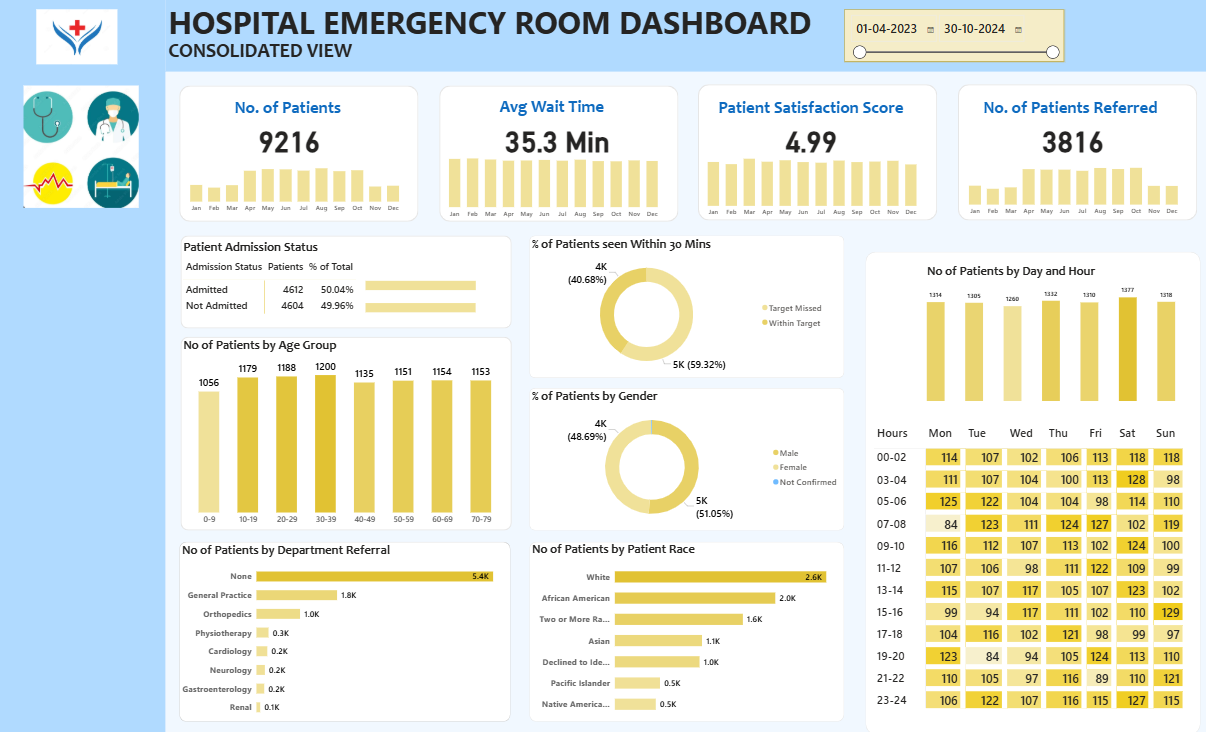

This screenshot's page, from the dashboard's own definition file:
{"tool":"powerbi","page":{"name":"Consolidated View","canvas":[2300,1400],"ordinal":1},"visuals":[{"type":"shape","box":[0,2.4,318.6,1398.1],"z":0},{"type":"shape","box":[318.6,0,1983,140.3],"z":1000},{"type":"textbox","box":[318.6,0,1343.4,99.9],"z":2000},{"type":"textbox","box":[318.6,71.3,375.7,69],"z":3000},{"type":"shape","box":[344.8,166.4,455,259.2],"z":4000},{"type":"card","title":"No. of Patients","fields":{"Values":["Hospital ER_Data.No of Patients"]},"box":[477.9,221.1,152.2,90.4],"z":5000},{"type":"slicer","fields":{"Values":["Date Table.Date"]},"box":[1609.7,21.4,418.5,99.9],"z":6000},{"type":"textbox","box":[444.6,183.1,275.8,76.1],"z":7000},{"type":"columnChart","fields":{"Category":["Date Table.Month Name"],"Y":["Hospital ER_Data.No of Patients"]},"box":[347.1,280.6,435.1,137],"z":8000},{"type":"shape","box":[838.2,166.9,455,259.2],"z":9000},{"type":"card","title":"No. of Patients","fields":{"Values":["Hospital ER_Data.Avg Wait Time"]},"box":[948.7,221.1,230.6,90.4],"z":10000},{"type":"textbox","box":[948.7,180.7,259.2,73.7],"z":11000},{"type":"columnChart","fields":{"Category":["Date Table.Month Name"],"Y":["Avg(Hospital ER_Data.Patient Waittime)"]},"box":[839.3,282.9,435.1,145],"z":12000},{"type":"shape","box":[1331.7,163.1,455,259.2],"z":13000},{"type":"card","title":"No. of Patients","fields":{"Values":["Hospital ER_Data.Satisfaction Score"]},"box":[1450.4,221.1,192.6,90.4],"z":14000},{"type":"textbox","box":[1364.8,183.1,366.2,76.1],"z":15000},{"type":"columnChart","fields":{"Y":["Hospital ER_Data.Satisfaction Score"],"Category":["Date Table.Month Name"]},"box":[1331.5,280.6,435.1,145],"z":16000},{"type":"shape","box":[1825.2,165,455,259.2],"z":17000},{"type":"card","title":"No. of Patients","fields":{"Values":["Hospital ER_Data.No of Patients Referred"]},"box":[1968.8,221.1,152.2,90.4],"z":18000},{"type":"textbox","box":[1868.9,183.1,378.1,76.1],"z":19000},{"type":"columnChart","fields":{"Y":["Hospital ER_Data.No of Patients Referred"],"Category":["Date Table.Month Name"]},"box":[1827.5,279.2,435.1,145],"z":20000},{"type":"shape","box":[347.1,451.8,630,177],"z":21000},{"type":"pivotTable","title":"Patient Admission Status","fields":{"Rows":["Hospital ER_Data.Admission Status"],"Values":["Hospital ER_Data.No of Patients1","Hospital ER_Data.No of Patients"]},"box":[347.1,458.9,630.1,168.8],"z":22000},{"type":"barChart","fields":{"Category":["Hospital ER_Data.Admission Status"],"Y":["Hospital ER_Data.No of Patients"]},"box":[694.3,504.1,282.9,123.6],"z":23000},{"type":"shape","box":[347.1,644.4,630.1,368.5],"z":24000},{"type":"clusteredColumnChart","fields":{"Category":["Hospital ER_Data.Age Group"],"Y":["Hospital ER_Data.No of Patients"]},"box":[347.1,644.4,627.7,368.5],"z":25000},{"type":"shape","box":[344.8,1034.3,630.1,342.4],"z":26000},{"type":"clusteredBarChart","fields":{"Category":["Hospital ER_Data.Department Referral"],"Y":["Hospital ER_Data.No of Patients"]},"box":[344.8,1034.3,630.1,344.8],"z":27000},{"type":"shape","box":[1010.5,451.8,599.2,271.1],"z":28000},{"type":"donutChart","title":"% of Patients seen Within 30 Mins","fields":{"Category":["Hospital ER_Data.Waittime Status"],"Y":["Hospital ER_Data.No of Patients"]},"box":[1010.5,451.8,570.7,271.1],"z":29000},{"type":"shape","box":[1010.5,741.9,599.2,271.1],"z":30000},{"type":"donutChart","title":"% of Patients by Gender","fields":{"Y":["Hospital ER_Data.No of Patients"],"Category":["Hospital ER_Data.Patient Gender"]},"box":[1010.5,741.9,599.2,271.1],"z":31000},{"type":"shape","box":[1010.5,1034.3,599.2,342.4],"z":32000},{"type":"clusteredBarChart","fields":{"Y":["Hospital ER_Data.No of Patients"],"Category":["Hospital ER_Data.Patient Race"]},"box":[1010.5,1031.9,599.2,344.8],"z":33000},{"type":"shape","box":[1650.1,482.7,637.2,917.8],"z":34000},{"type":"pivotTable","fields":{"Rows":["Hospital ER_Data.Waittime Interval"],"Columns":["Date Table.Day Name"],"Values":["Hospital ER_Data.No of Patients"]},"box":[1662,806.1,601.6,573],"z":35000},{"type":"columnChart","title":"No of Patients by Day and Hour","fields":{"Category":["Date Table.Day Name"],"Y":["Hospital ER_Data.No of Patients"]},"box":[1761.9,504.1,485.1,268.7],"z":36000},{"type":"image","box":[28.5,166.4,259.2,233],"z":37000},{"type":"image","box":[0,21.4,299.6,104.6],"z":38000}]}

Visuals, with their boxes in screenshot pixels (x1, y1, x2, y2), scaled from the page's 2300x1400 canvas onto the 1206x732 screenshot:
shape: region(0, 1, 167, 731)
shape: region(167, 0, 1205, 73)
textbox: region(167, 0, 871, 52)
textbox: region(167, 37, 364, 73)
shape: region(181, 87, 419, 223)
"No. of Patients" card: region(251, 116, 330, 163)
slicer - Date Table.Date: region(844, 11, 1063, 63)
textbox: region(233, 96, 378, 136)
columnChart - Date Table.Month Name x Hospital ER_Data.No of Patients: region(182, 147, 410, 218)
shape: region(440, 87, 678, 223)
"No. of Patients" card: region(497, 116, 618, 163)
textbox: region(497, 94, 633, 133)
columnChart - Date Table.Month Name x Avg(Hospital ER_Data.Patient Waittime): region(440, 148, 668, 224)
shape: region(698, 85, 937, 221)
"No. of Patients" card: region(761, 116, 862, 163)
textbox: region(716, 96, 908, 136)
columnChart - Hospital ER_Data.Satisfaction Score x Date Table.Month Name: region(698, 147, 926, 223)
shape: region(957, 86, 1196, 222)
"No. of Patients" card: region(1032, 116, 1112, 163)
textbox: region(980, 96, 1178, 136)
columnChart - Hospital ER_Data.No of Patients Referred x Date Table.Month Name: region(958, 146, 1186, 222)
shape: region(182, 236, 512, 329)
"Patient Admission Status" pivotTable: region(182, 240, 512, 328)
barChart - Hospital ER_Data.Admission Status x Hospital ER_Data.No of Patients: region(364, 264, 512, 328)
shape: region(182, 337, 512, 530)
clusteredColumnChart - Hospital ER_Data.Age Group x Hospital ER_Data.No of Patients: region(182, 337, 511, 530)
shape: region(181, 541, 511, 720)
clusteredBarChart - Hospital ER_Data.Department Referral x Hospital ER_Data.No of Patients: region(181, 541, 511, 721)
shape: region(530, 236, 844, 378)
"% of Patients seen Within 30 Mins" donutChart: region(530, 236, 829, 378)
shape: region(530, 388, 844, 530)
"% of Patients by Gender" donutChart: region(530, 388, 844, 530)
shape: region(530, 541, 844, 720)
clusteredBarChart - Hospital ER_Data.No of Patients x Hospital ER_Data.Patient Race: region(530, 540, 844, 720)
shape: region(865, 252, 1199, 731)
pivotTable - Hospital ER_Data.Waittime Interval x Date Table.Day Name: region(871, 421, 1187, 721)
"No of Patients by Day and Hour" columnChart: region(924, 264, 1178, 404)
image: region(15, 87, 151, 209)
image: region(0, 11, 157, 66)
